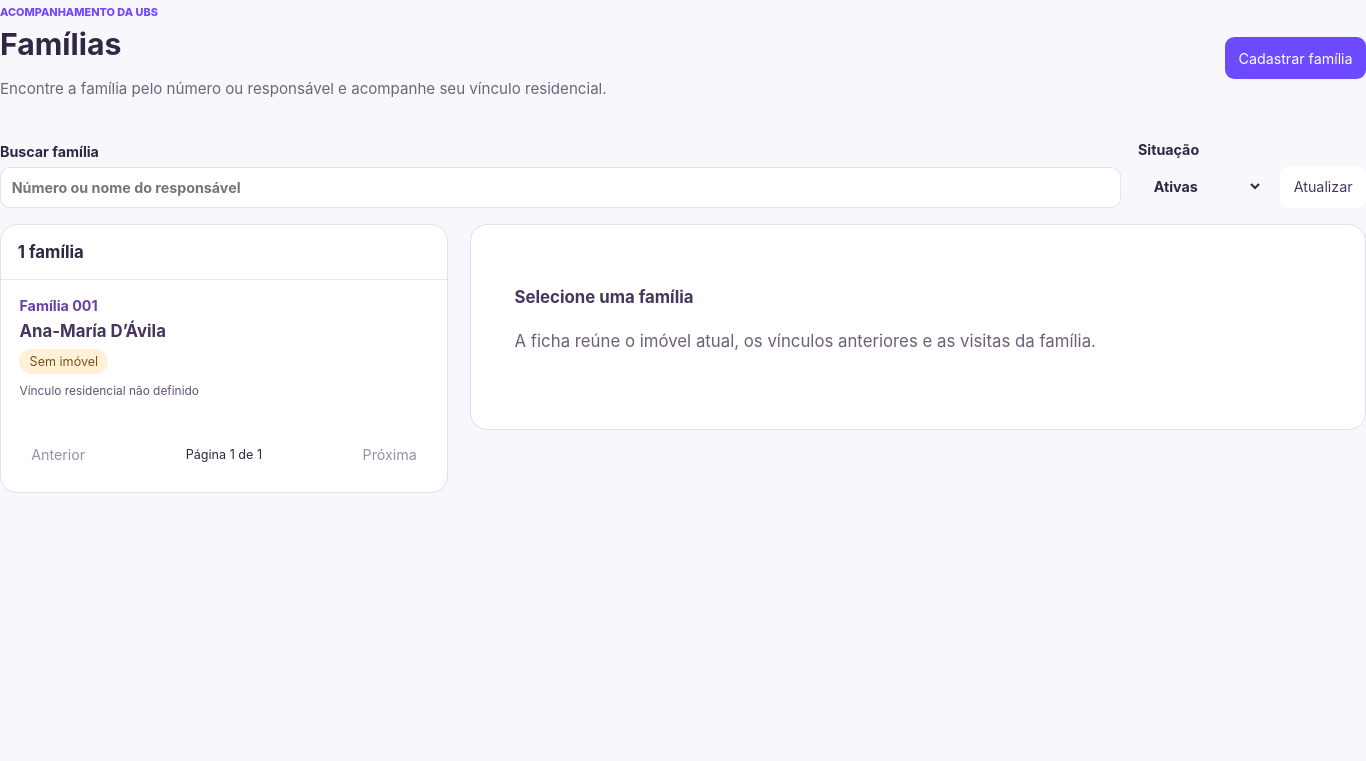
Test: Cadastro e acompanhamento de famílias › vincula um imóvel existente com as versões da família e do imóvel
Click the button "Família 001" at {"x": 46, "y": 305}, box [1, 280, 447, 416]
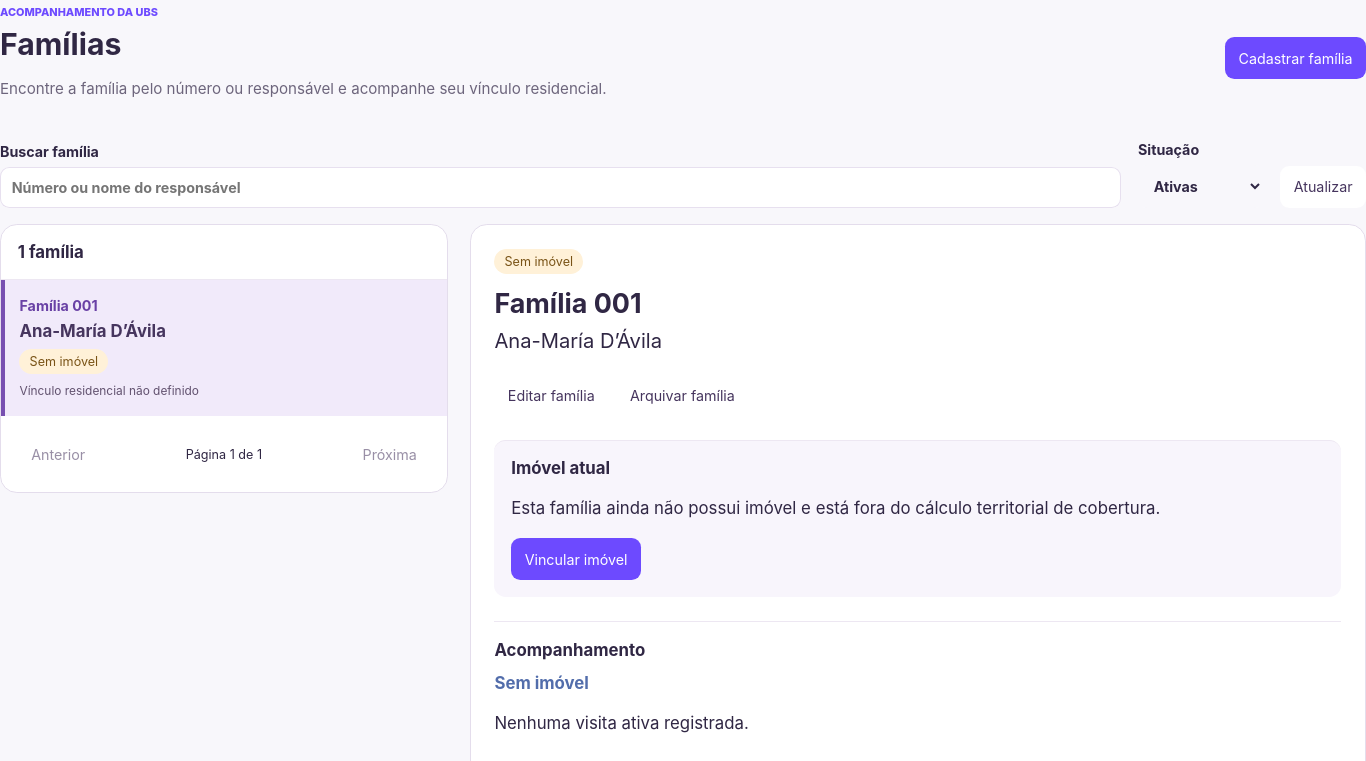
Now the heading "Família 001" is shown, box [494, 287, 642, 319]
Click the button "Vincular imóvel" at {"x": 576, "y": 559}, box [511, 538, 641, 580]
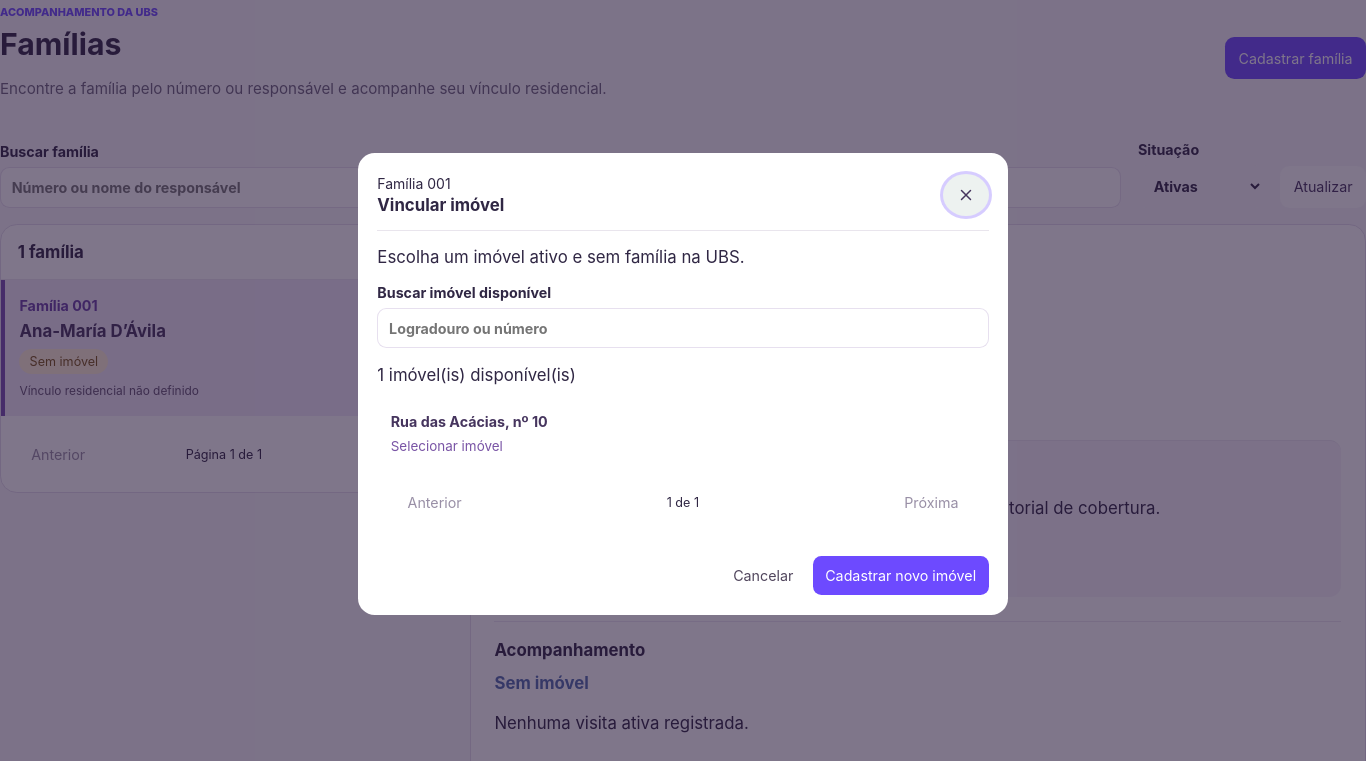
Click the button "Rua das Acácias, nº 10 Selecionar imóvel" at {"x": 448, "y": 421}, box [377, 402, 989, 465]
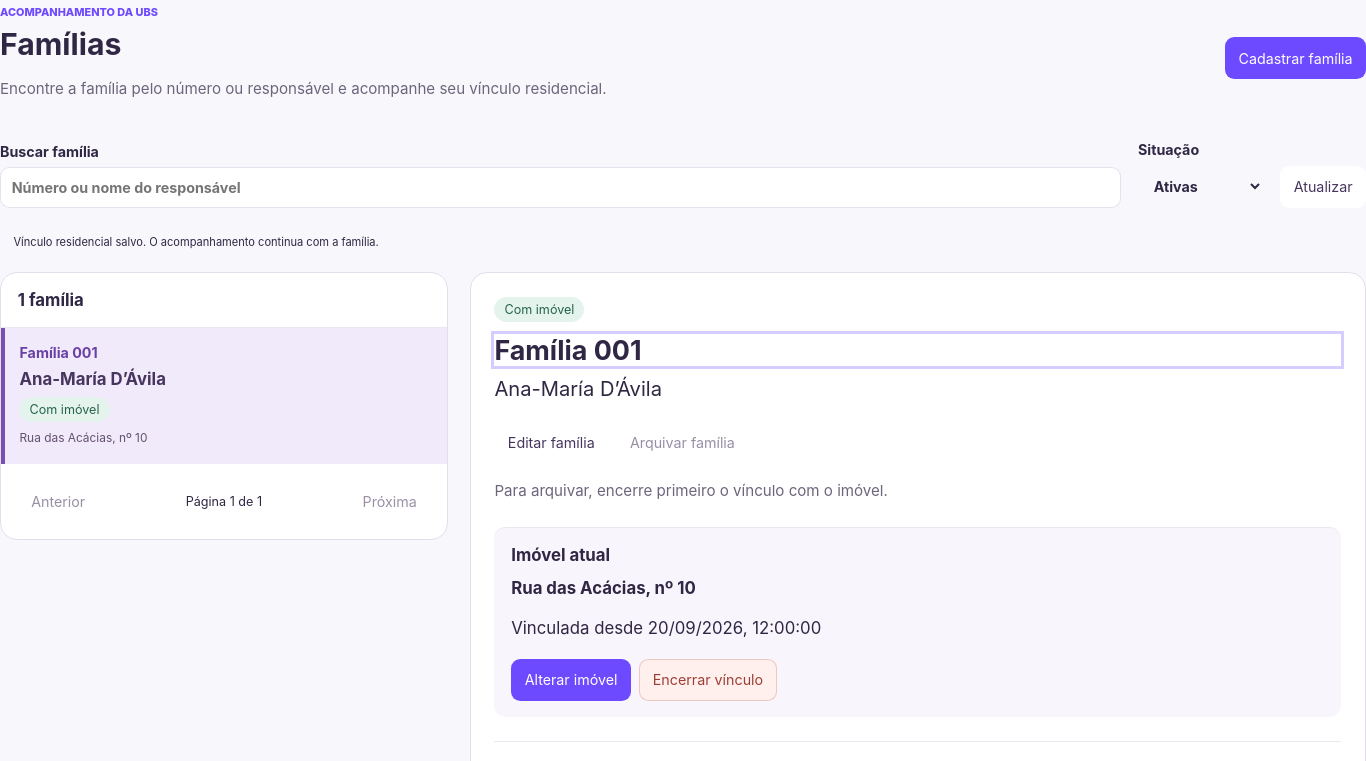
Now the button "Alterar imóvel" is shown, box [511, 658, 631, 700]
Now the button "Arquivar família" is disabled, box [616, 422, 748, 464]
